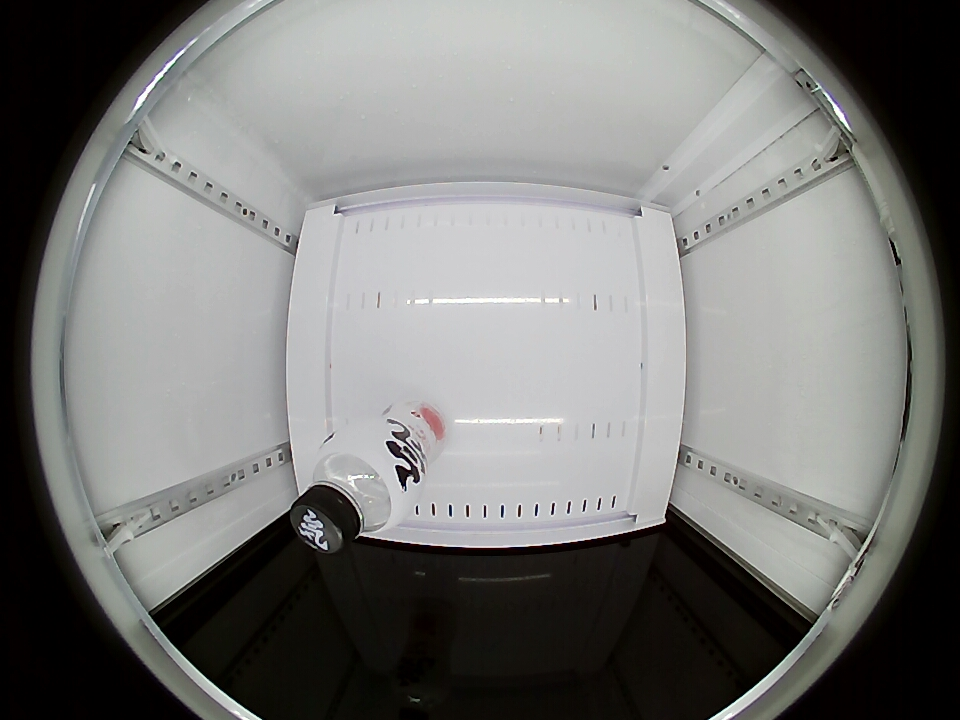yuanqishui: (291, 437, 411, 554)
